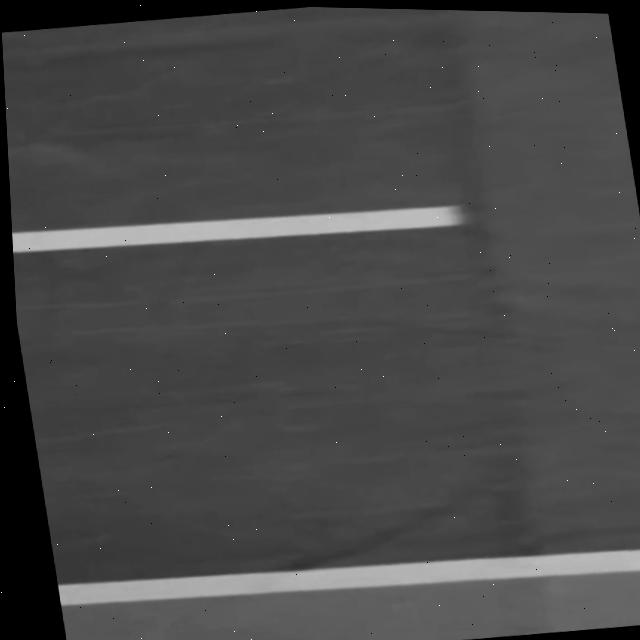center: (12, 204, 467, 253)
right: (56, 548, 640, 605)
